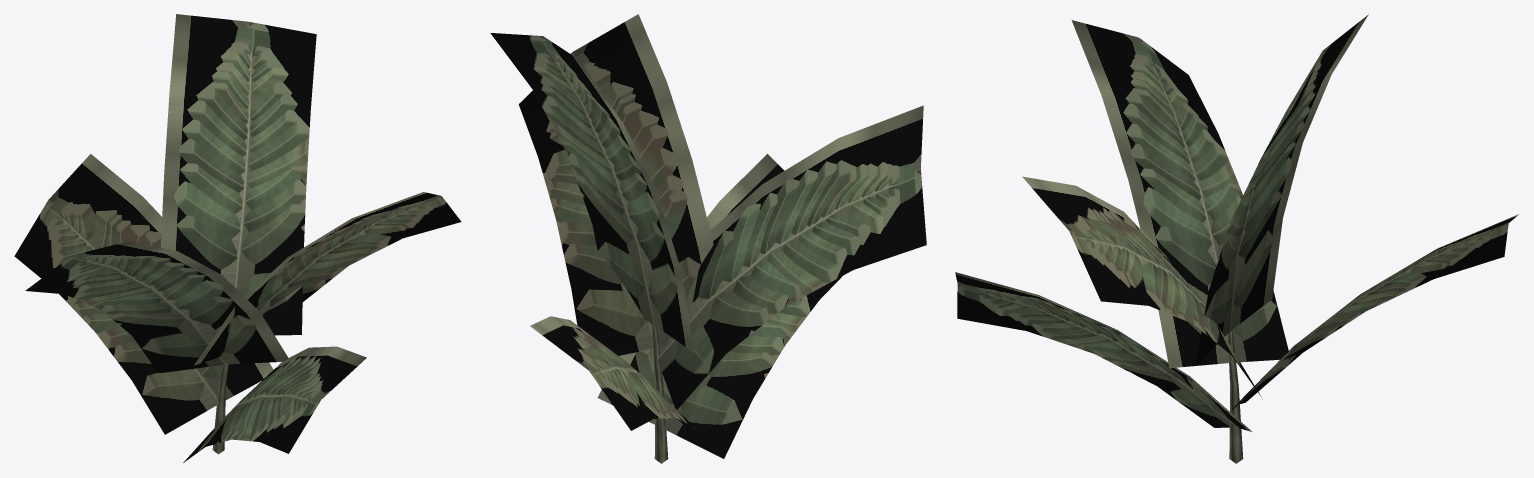
Rendered from fern_short.obj.
The picture shows the model from 3 angles, left to right: view 1: azimuth 30°, elevation 25°; view 2: azimuth 150°, elevation 25°; view 3: azimuth 270°, elevation 25°; orthographic projection. The views are drawn at different scales.
Visible parts, largest first — view 1: Top_Branch, Upper_Left_Branch, Low_Front_Branch, Upper_Right_Branch, Low_Back_Branch, Main_Stem; view 2: Upper_Left_Branch, Upper_Right_Branch, Top_Branch, Low_Back_Branch, Low_Front_Branch, Main_Stem; view 3: Upper_Left_Branch, Top_Branch, Upper_Right_Branch, Low_Back_Branch, Low_Front_Branch, Main_Stem.
Part boxes in pixels (x1=…): Top_Branch: x1=161, y1=14, x2=316, y2=335; Upper_Left_Branch: x1=25, y1=241, x2=288, y2=372; Low_Front_Branch: x1=14, y1=154, x2=273, y2=434; Upper_Right_Branch: x1=194, y1=192, x2=461, y2=365; Low_Back_Branch: x1=183, y1=346, x2=366, y2=462; Main_Stem: x1=212, y1=362, x2=228, y2=454; Upper_Left_Branch: x1=658, y1=105, x2=926, y2=409; Upper_Right_Branch: x1=518, y1=14, x2=713, y2=355; Top_Branch: x1=490, y1=33, x2=694, y2=352; Low_Back_Branch: x1=597, y1=154, x2=842, y2=458; Low_Front_Branch: x1=530, y1=316, x2=711, y2=447; Main_Stem: x1=651, y1=324, x2=668, y2=463; Upper_Left_Branch: x1=1071, y1=20, x2=1290, y2=368; Top_Branch: x1=1195, y1=14, x2=1368, y2=365; Upper_Right_Branch: x1=1022, y1=176, x2=1261, y2=396; Low_Back_Branch: x1=955, y1=272, x2=1251, y2=431; Low_Front_Branch: x1=1231, y1=214, x2=1518, y2=412; Main_Stem: x1=1227, y1=331, x2=1243, y2=463.
Size of the model in its own units: 43.24 by 40.63 by 45.7.
Materials: 1 (1 with a texture image).
